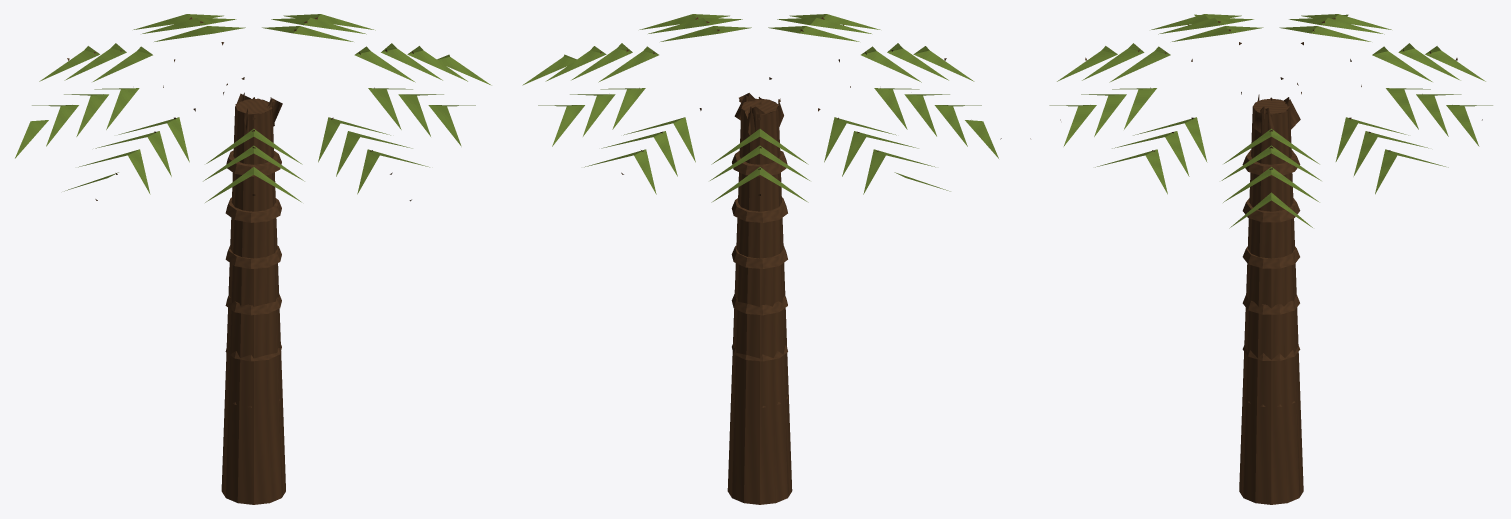
Rendered from palm.glb.
The picture shows the model from 3 angles, left to right: view 1: azimuth 30°, elevation 25°; view 2: azimuth 150°, elevation 25°; view 3: azimuth 270°, elevation 25°; orthographic projection.
Visible parts, largest first — view 1: Surface TropicalBark, Surface PalmFronds; view 2: Surface TropicalBark, Surface PalmFronds; view 3: Surface TropicalBark, Surface PalmFronds.
Boxes of the visible parts, x1,y1,x2,y2 form: Surface TropicalBark: (67, 17, 413, 504); Surface PalmFronds: (15, 14, 491, 202); Surface TropicalBark: (600, 17, 1001, 504); Surface PalmFronds: (522, 14, 998, 202); Surface TropicalBark: (1030, 18, 1482, 504); Surface PalmFronds: (1049, 14, 1492, 228).
Bounding box in the file's own units: 5.9 × 5.38 × 5.49.
2 materials, 2 textured.
